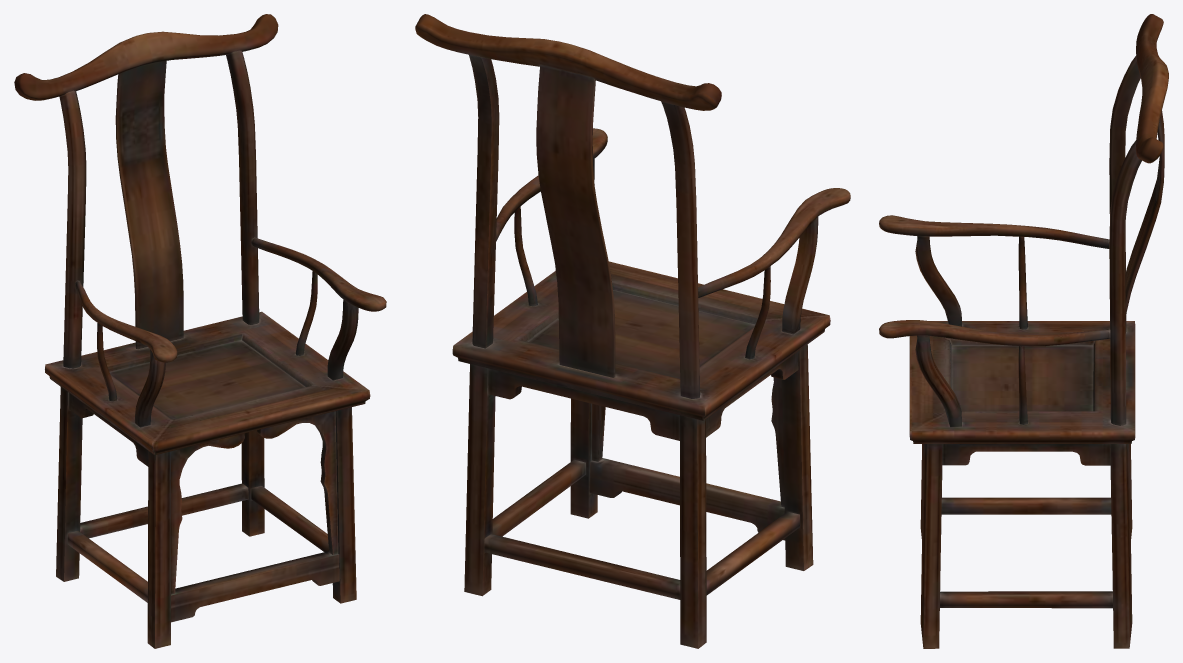
3 views of the same model, side by side, from view 1: azimuth 30°, elevation 25°; view 2: azimuth 150°, elevation 25°; view 3: azimuth 270°, elevation 25° (orthographic). The views are drawn at different scales.
Visible parts, largest first — view 1: chinese_armchair; view 2: chinese_armchair; view 3: chinese_armchair.
Part boxes in pixels (x1,y1,x2,y2): chinese_armchair: (14,14,386,648); chinese_armchair: (415,14,850,648); chinese_armchair: (879,14,1168,648).
Size of the model in its own units: 0.8483 by 1.59 by 0.7887.
Materials: 1 (1 with a texture image).
